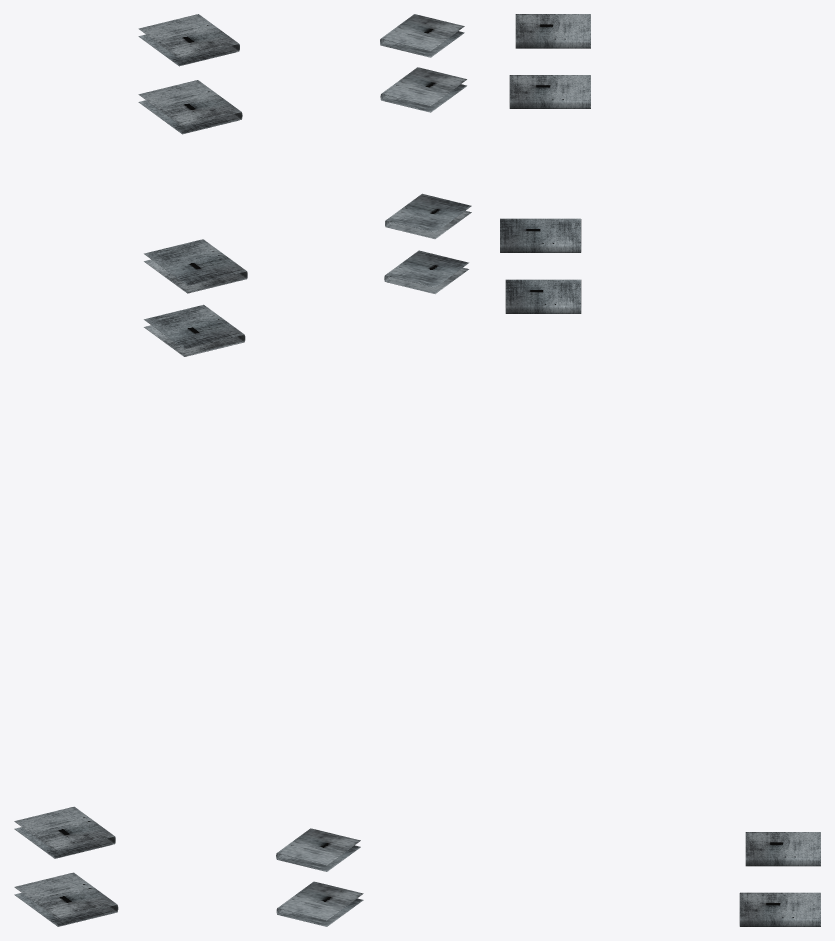
The model's file is bookshelf_8.obj.
3 views of the same model, side by side, from view 1: azimuth 30°, elevation 25°; view 2: azimuth 150°, elevation 25°; view 3: azimuth 270°, elevation 25° (orthographic). The views are drawn at different scales.
Size of the model in its own units: 0.2821 by 4.23 by 1.39.
